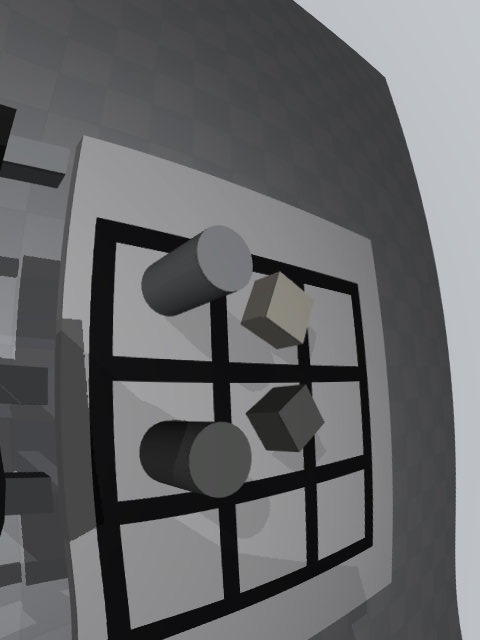can: (141, 225, 253, 317)
cube: (246, 384, 325, 452)
cylinder: (139, 421, 252, 498)
foam: (240, 271, 314, 349)
